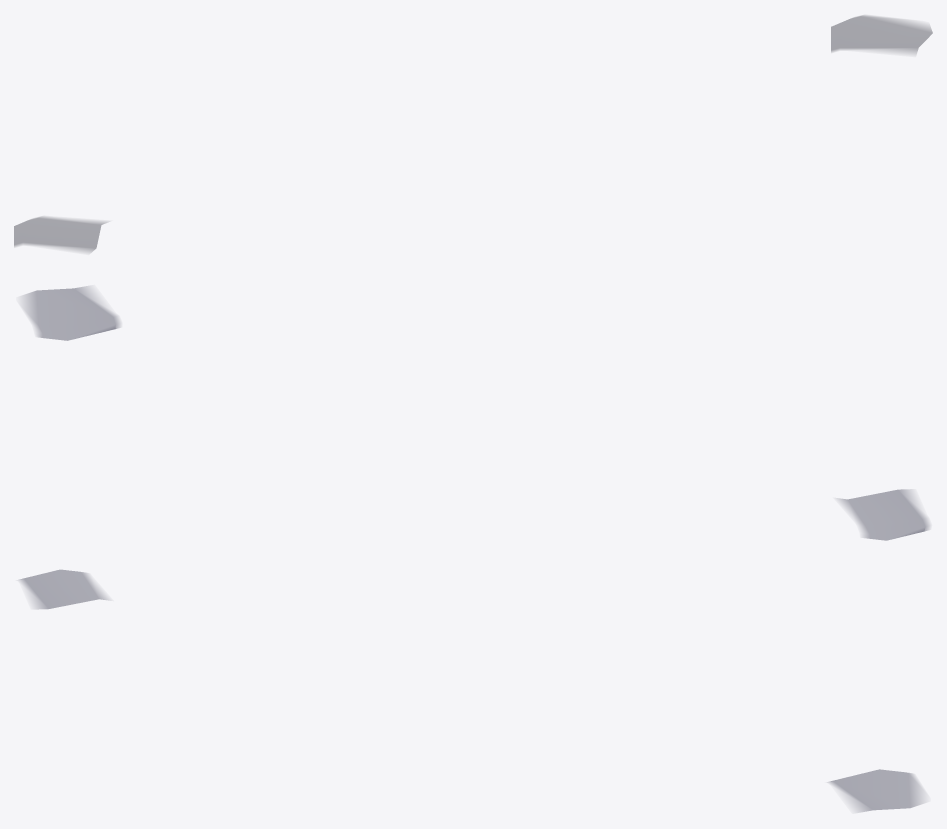
The picture shows the model from 3 angles, top to bottom: view 1: azimuth 30°, elevation 25°; view 2: azimuth 150°, elevation 25°; view 3: azimuth 330°, elevation 25°; orthographic projection.
Parts seen in each view (by area): view 1: Joint_0_Object_1, Joint_0_Object_0; view 2: Joint_0_Object_1, Joint_0_Object_0; view 3: Joint_0_Object_1, Joint_0_Object_0.
Part boxes in pixels (x1,y1,x2,y2): Joint_0_Object_1: (831, 15, 932, 53); Joint_0_Object_0: (14, 217, 106, 252); Joint_0_Object_1: (24, 286, 119, 340); Joint_0_Object_0: (839, 489, 929, 540); Joint_0_Object_1: (829, 769, 922, 811); Joint_0_Object_0: (20, 570, 107, 608).
Bounding box in the file's own units: 1471 × 12.57 × 171.
Materials: 1 (1 with a texture image).
